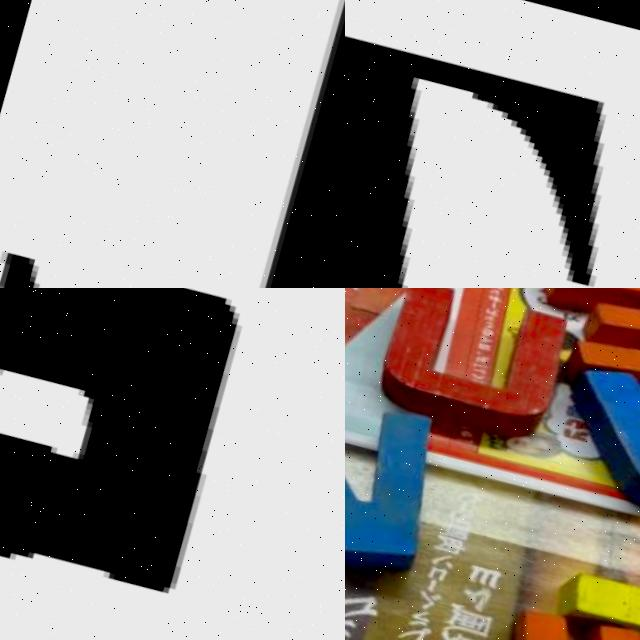5: (0, 288, 309, 640)
E: (525, 288, 640, 425)
J: (534, 354, 640, 549)
L: (0, 0, 345, 288), (527, 459, 640, 640)
T: (345, 0, 640, 288)
U: (362, 288, 577, 453)
V: (345, 360, 462, 604)
